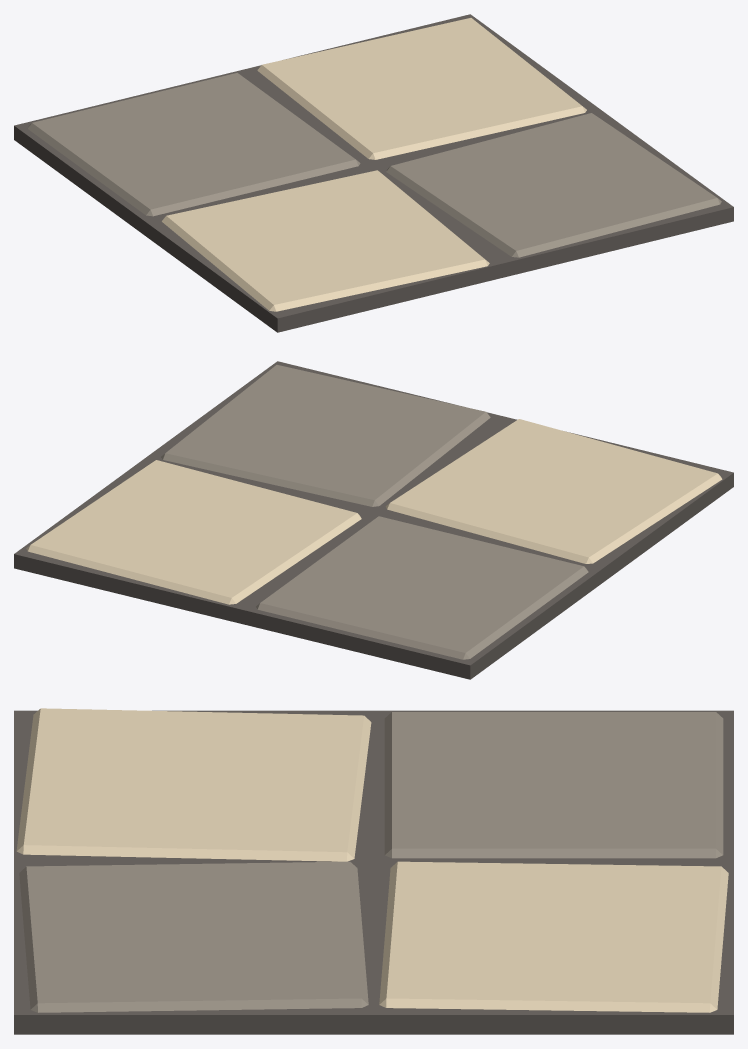
Rendered from PR_Building_Zemin_Tas.fbx.
The picture shows the model from 3 angles, top to bottom: view 1: azimuth 30°, elevation 25°; view 2: azimuth 150°, elevation 25°; view 3: azimuth 270°, elevation 25°; orthographic projection. The views are drawn at different scales.
Visible parts, largest first — view 1: PR_Building_Zemin_Tas; view 2: PR_Building_Zemin_Tas; view 3: PR_Building_Zemin_Tas.
Boxes of the visible parts, bbox=[...] form: PR_Building_Zemin_Tas: bbox=[14, 14, 733, 332]; PR_Building_Zemin_Tas: bbox=[14, 361, 733, 679]; PR_Building_Zemin_Tas: bbox=[14, 708, 733, 1034].
Size of the model in its own units: 1 by 0.04 by 1.
Materials: 1 (1 with a texture image).
